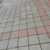others: (1, 1, 50, 38)
